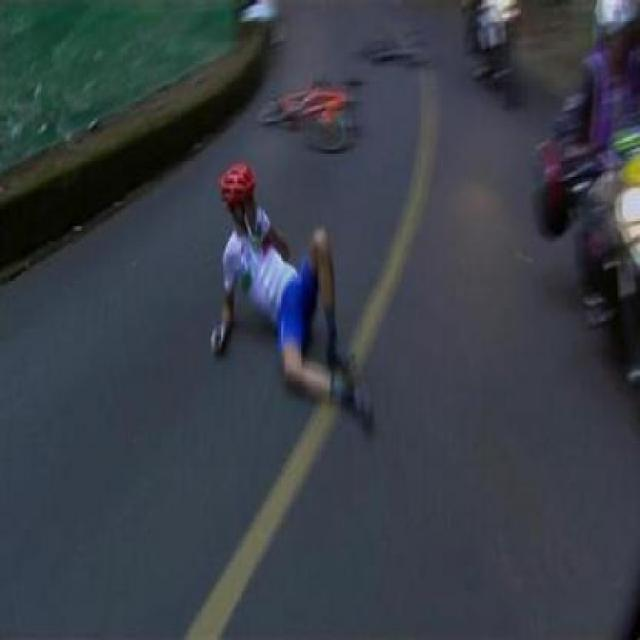fall: (202, 132, 382, 436)
